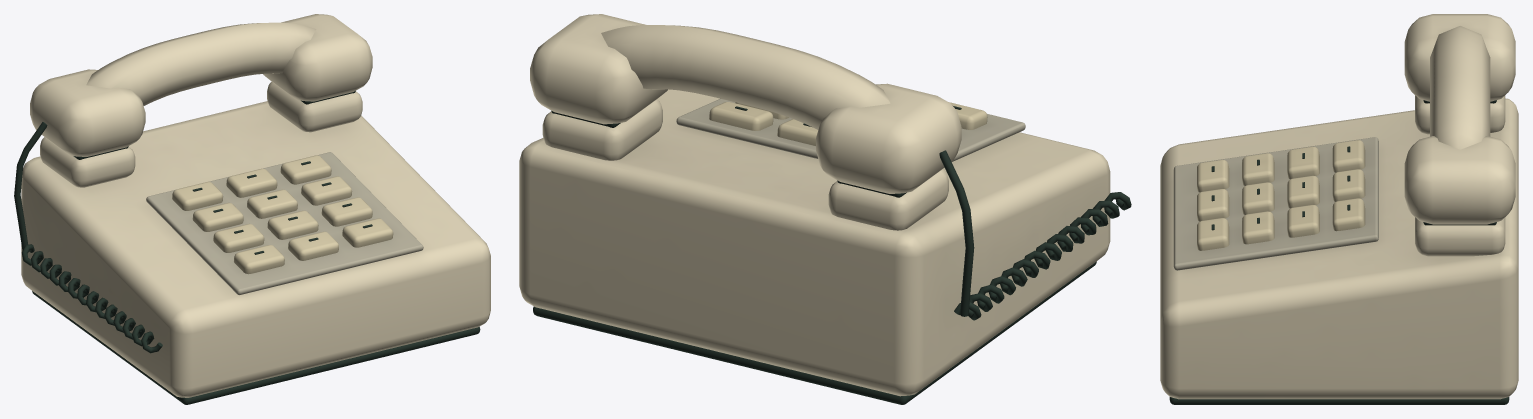
The model's file is phone-01.gltf.
3 views of the same model, side by side, from view 1: azimuth 30°, elevation 25°; view 2: azimuth 150°, elevation 25°; view 3: azimuth 270°, elevation 25° (orthographic). The views are drawn at different scales.
Visible parts, largest first — view 1: phone-01; view 2: phone-01; view 3: phone-01.
Part boxes in pixels (left/top/right/bottom): phone-01: left=14, top=14, right=490, bottom=404; phone-01: left=519, top=14, right=1131, bottom=404; phone-01: left=1160, top=14, right=1518, bottom=404.
Size of the model in its own units: 0.4627 by 0.309 by 0.38.
4 materials, 4 textured.
